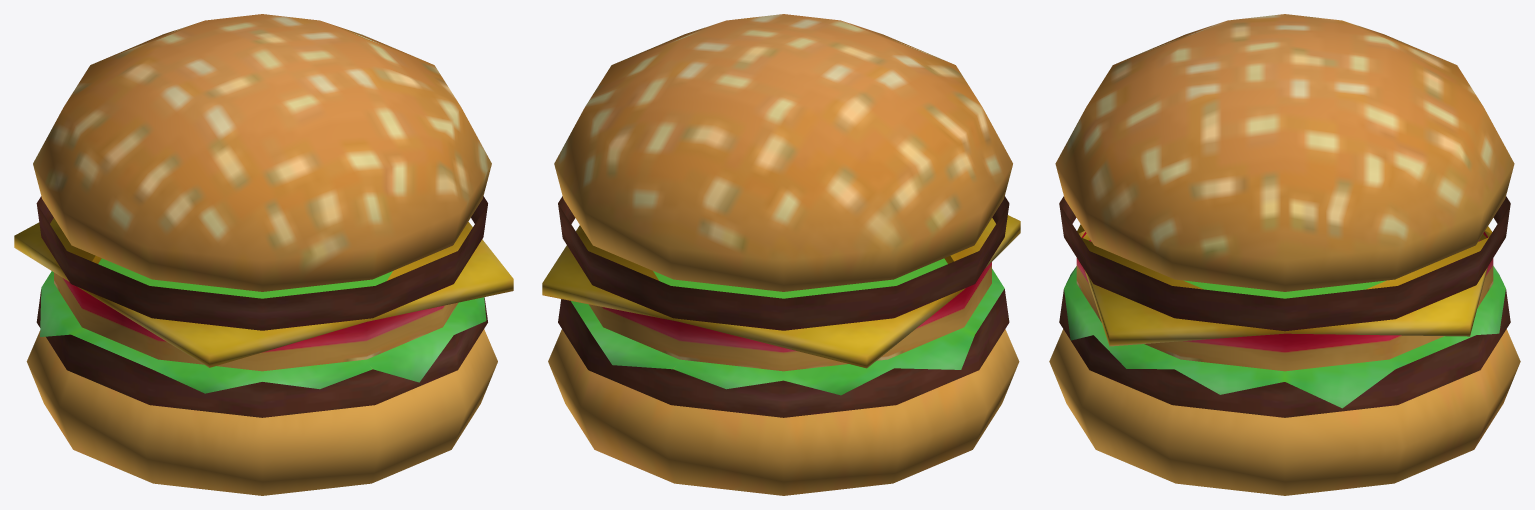
The model's file is burger_toy.fbx.
3 renders of one model, left to right at view 1: azimuth 30°, elevation 25°; view 2: azimuth 150°, elevation 25°; view 3: azimuth 270°, elevation 25°, orthographic.
Parts seen in each view (by area): view 1: burger_toy; view 2: burger_toy; view 3: burger_toy.
Part boxes in pixels (left/top/right/bottom): burger_toy: left=14, top=14, right=513, bottom=495; burger_toy: left=542, top=14, right=1020, bottom=495; burger_toy: left=1049, top=14, right=1520, bottom=495.
Size of the model in its own units: 11.49 by 9.93 by 11.49.
